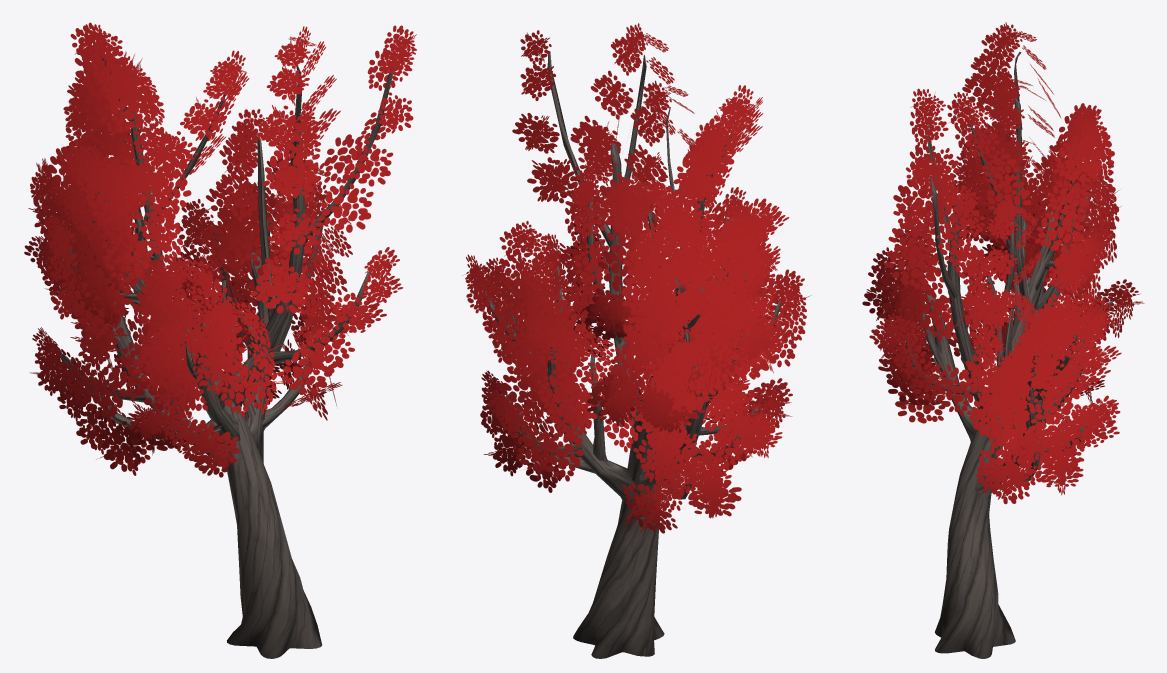
The model's file is twisted-tree-5.glb.
3 renders of one model, left to right at view 1: azimuth 30°, elevation 25°; view 2: azimuth 150°, elevation 25°; view 3: azimuth 270°, elevation 25°, orthographic. The views are drawn at different scales.
Visible parts, largest first — view 1: TwistedTree_2; view 2: TwistedTree_2; view 3: TwistedTree_2.
Part boxes in pixels (<box>): TwistedTree_2: <box>24,22,416,658</box>; TwistedTree_2: <box>463,23,811,658</box>; TwistedTree_2: <box>862,22,1144,658</box>.
Bounding box in the file's own units: 10.56 × 18.95 × 9.2.
2 materials, 2 textured.
